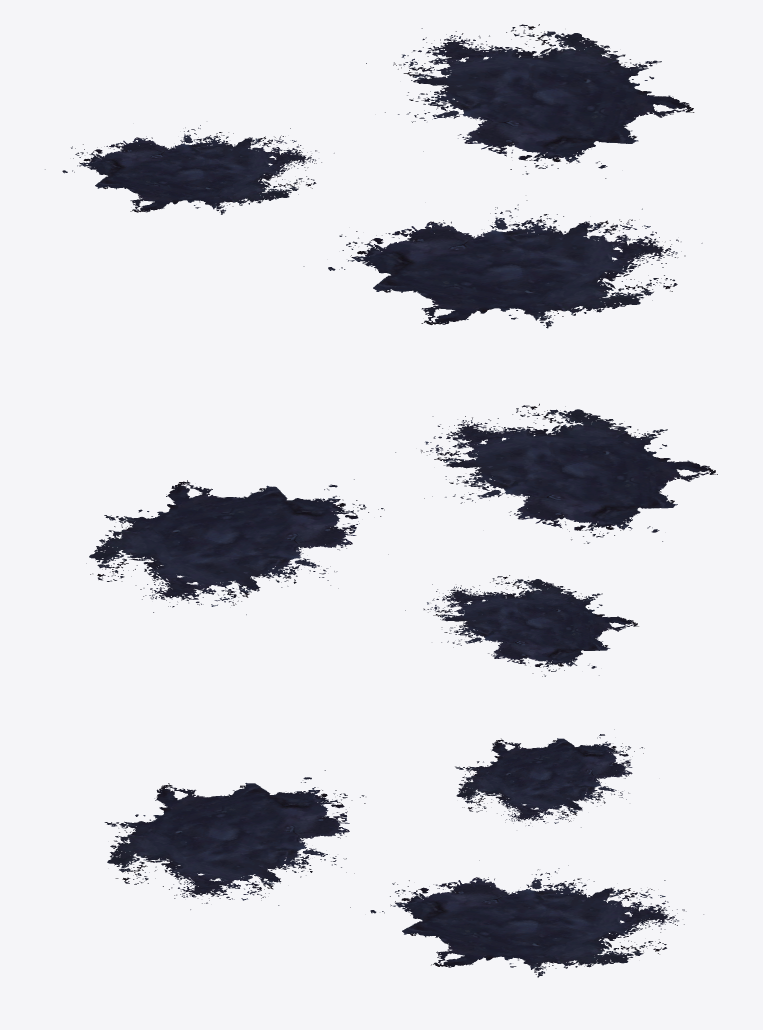
The model's file is palace_floor_decal_06.fbx.
3 renders of one model, top to bottom at view 1: azimuth 30°, elevation 25°; view 2: azimuth 150°, elevation 25°; view 3: azimuth 270°, elevation 25°, orthographic. The views are drawn at different scales.
Parts seen in each view (by area): view 1: palace_tileset/palace_decalss01_shadow_mat; view 2: palace_tileset/palace_decalss01_shadow_mat; view 3: palace_tileset/palace_decalss01_shadow_mat.
Part boxes in pixels (box(x1,y1,x2,y2)): palace_tileset/palace_decalss01_shadow_mat: box(45, 24, 702, 328); palace_tileset/palace_decalss01_shadow_mat: box(86, 403, 717, 676); palace_tileset/palace_decalss01_shadow_mat: box(104, 729, 703, 977).
Bounding box in the file's own units: 9.98 × 0.001 × 10.09.
